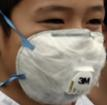with_mask: (2, 2, 107, 105)
